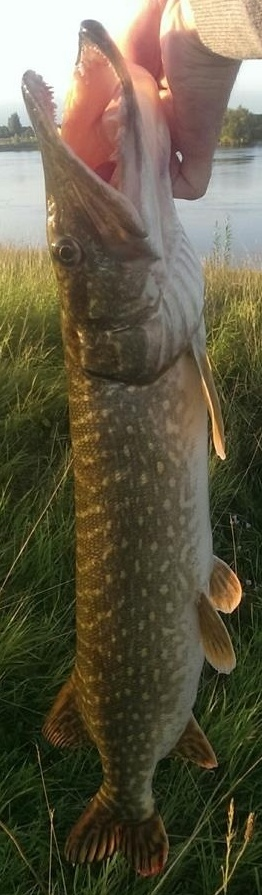Esox lucius: (20, 20, 242, 875)
